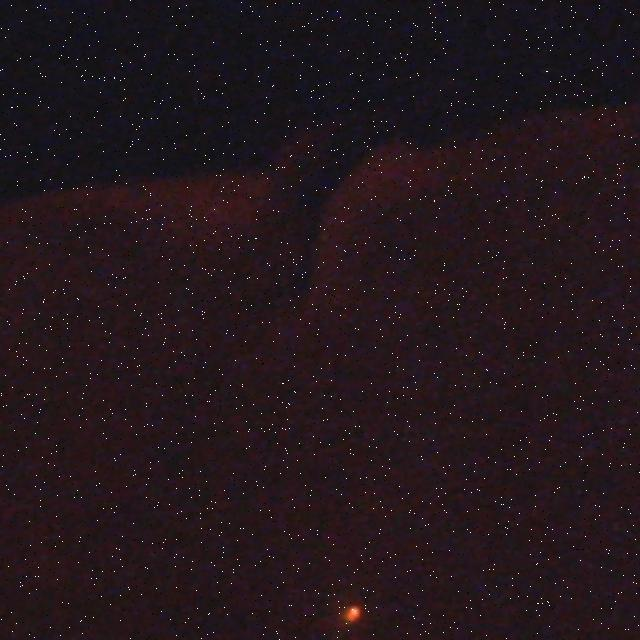Fragment: (343, 600, 362, 624)
